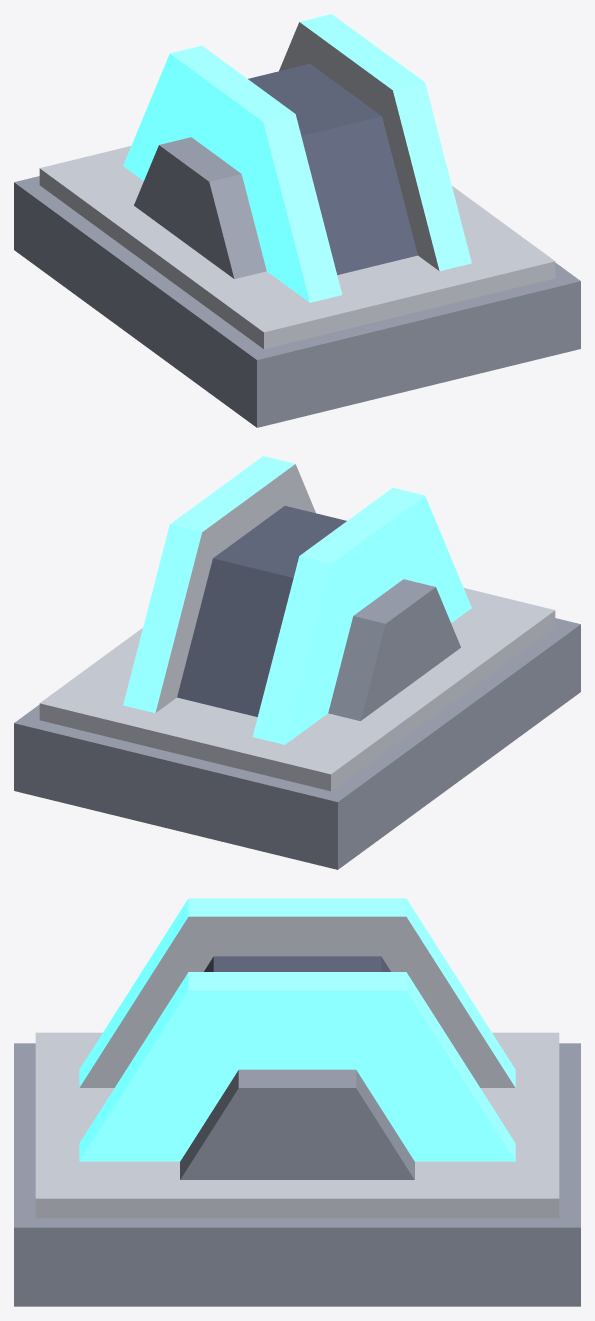
Rendered from machine_generatorLarge.glb.
3 renders of one model, top to bottom at view 1: azimuth 30°, elevation 25°; view 2: azimuth 150°, elevation 25°; view 3: azimuth 270°, elevation 25°, orthographic. The views are drawn at different scales.
Parts seen in each view (by area): view 1: machine_generatorLarge; view 2: machine_generatorLarge; view 3: machine_generatorLarge.
Part boxes in pixels (x1,y1,x2,y2): machine_generatorLarge: (14,14,580,427); machine_generatorLarge: (14,456,580,869); machine_generatorLarge: (14,898,580,1306).
Size of the model in its own units: 1 by 0.683 by 1.3.
